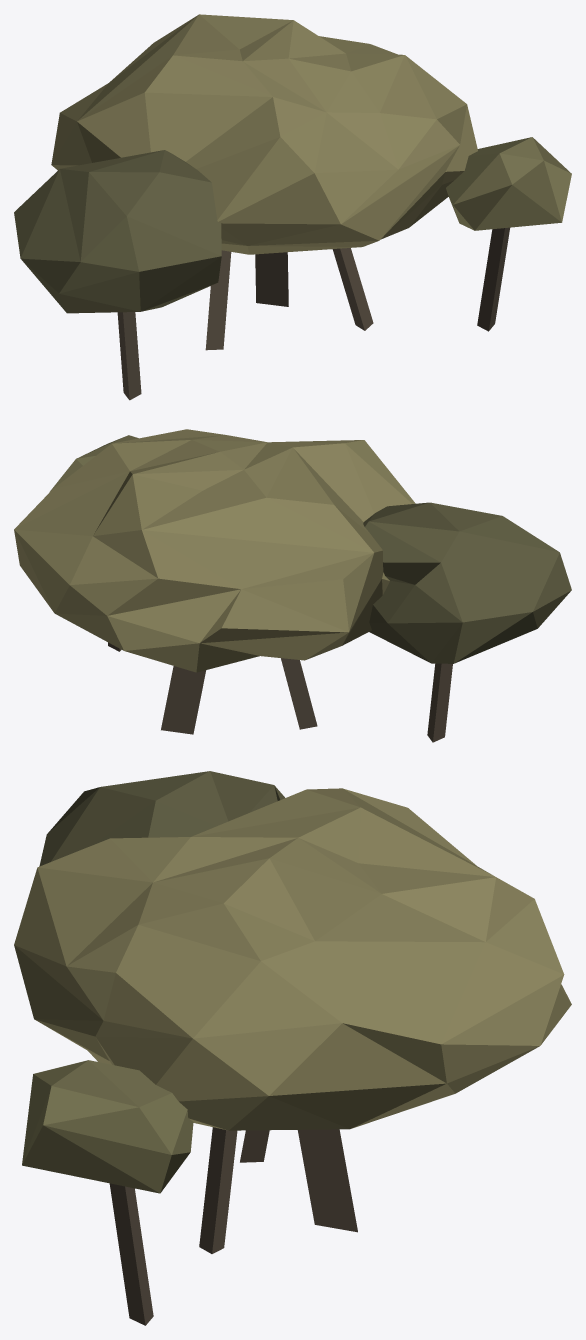
File: SM_Env_Bush_Group_03.fbx
3 renders of one model, top to bottom at view 1: azimuth 30°, elevation 25°; view 2: azimuth 150°, elevation 25°; view 3: azimuth 270°, elevation 25°, orthographic. The views are drawn at different scales.
Visible parts, largest first — view 1: SM_Env_Bush_Group_03; view 2: SM_Env_Bush_Group_03; view 3: SM_Env_Bush_Group_03.
Part boxes in pixels (x1,y1,x2,y2): SM_Env_Bush_Group_03: (14, 14, 571, 400); SM_Env_Bush_Group_03: (14, 429, 571, 742); SM_Env_Bush_Group_03: (14, 771, 571, 1325).
Size of the model in its own units: 301 by 154 by 215.
